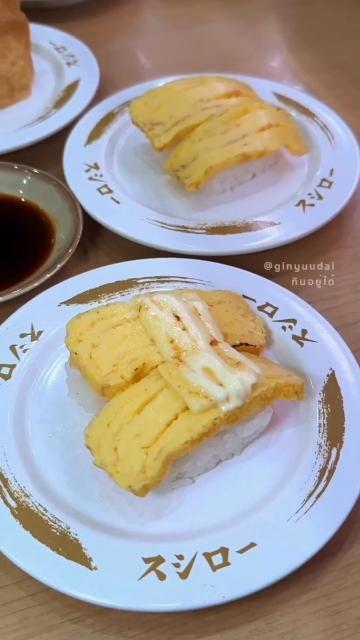janwhite: (0, 485, 360, 614), (102, 85, 360, 256), (0, 310, 74, 491), (35, 24, 102, 137)
